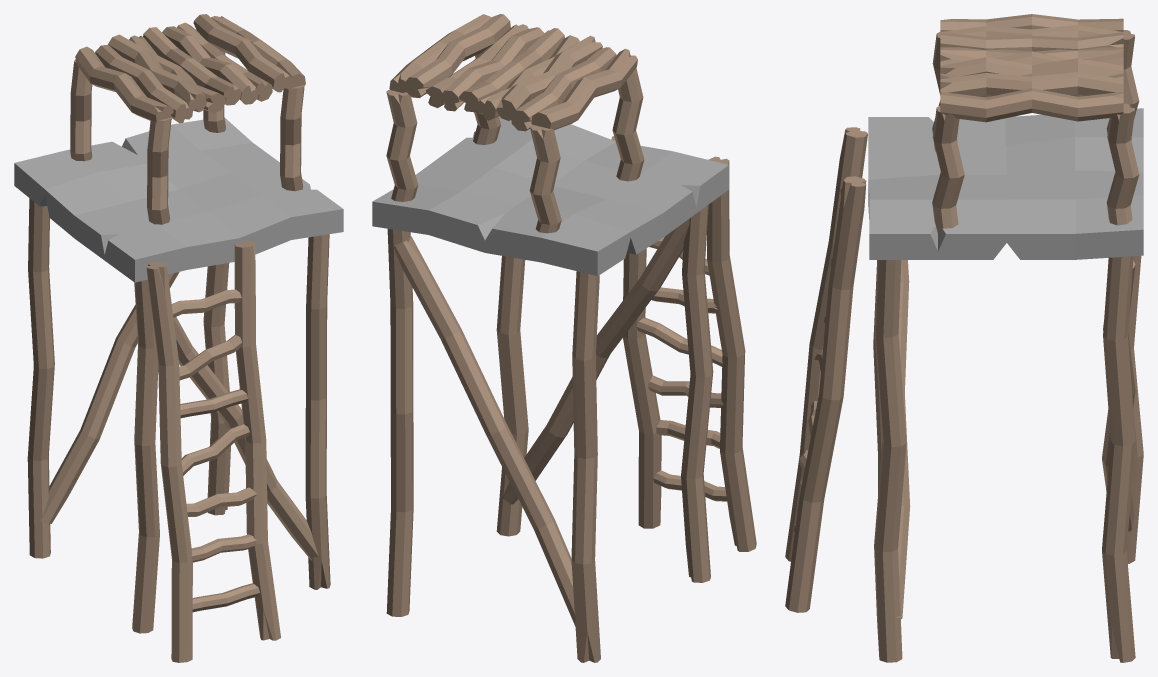
Rendered from LowPolyBuilding3.fbx.
3 views of the same model, side by side, from view 1: azimuth 30°, elevation 25°; view 2: azimuth 150°, elevation 25°; view 3: azimuth 270°, elevation 25° (orthographic). The views are drawn at different scales.
Parts seen in each view (by area): view 1: pCube1, pCylinder2, pCylinder3, pCylinder12, pCylinder14, pCylinder11, pCylinder16, pCylinder15, pCylinder13, pCylinder21, pCylinder28, pCylinder18 (+17 smaller); view 2: pCube1, pCylinder12, pCylinder16, pCylinder13, pCylinder11, pCylinder2, pCylinder15, pCylinder14, pCylinder3, pCylinder21, pCylinder28, pCylinder20 (+15 smaller); view 3: pCube1, pCylinder3, pCylinder13, pCylinder14, pCylinder29, pCylinder2, pCylinder28, pCylinder17, pCylinder20, pCylinder23, pCylinder26, pCylinder15 (+8 smaller).
Part boxes in pixels (box(x1,y1,x2,y2)): pCube1: box(14, 118, 343, 282); pCylinder2: box(146, 262, 192, 662); pCylinder3: box(234, 240, 280, 640); pCylinder12: box(27, 198, 54, 558); pCylinder14: box(305, 234, 330, 589); pCylinder11: box(132, 279, 159, 633); pCylinder16: box(40, 272, 179, 524); pCylinder15: box(173, 317, 318, 560); pCylinder13: box(203, 263, 230, 515); pCylinder21: box(75, 46, 173, 122); pCylinder28: box(193, 14, 291, 92); pCylinder18: box(147, 116, 171, 224); pCube1: box(372, 116, 728, 276); pCylinder12: box(571, 271, 600, 662); pCylinder16: box(393, 236, 575, 626); pCylinder13: box(386, 229, 413, 616); pCylinder11: box(681, 205, 713, 582); pCylinder2: box(707, 156, 756, 551); pCylinder15: box(501, 214, 695, 504); pCylinder14: box(496, 256, 528, 536); pCylinder3: box(611, 136, 661, 528); pCylinder21: box(531, 48, 637, 130); pCylinder28: box(404, 14, 510, 97); pCylinder20: box(386, 90, 418, 201); pCube1: box(868, 108, 1143, 259); pCylinder3: box(785, 176, 866, 612); pCylinder13: box(1102, 256, 1135, 662); pCylinder14: box(874, 260, 906, 662); pCylinder29: box(940, 88, 1123, 122); pCylinder2: box(785, 127, 867, 561); pCylinder28: box(940, 72, 1123, 97); pCylinder17: box(932, 105, 964, 234); pCylinder20: box(1106, 103, 1139, 225); pCylinder23: box(940, 32, 1123, 51); pCylinder26: box(940, 57, 1123, 76); pCylinder15: box(896, 260, 910, 618).
Bounding box in the file's own units: 4.73 × 10.89 × 6.16.
